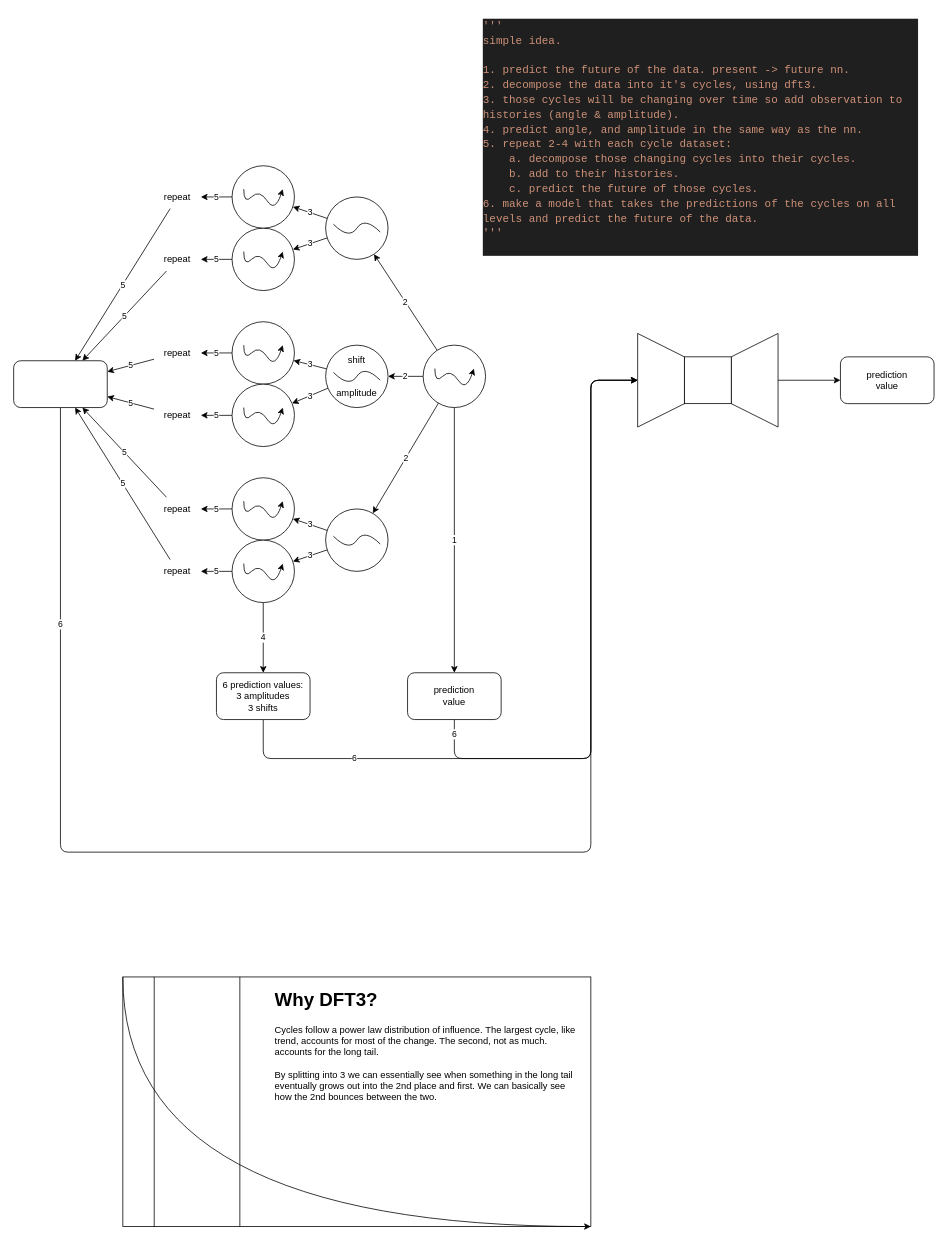
The diagram is 948 pixels wide and 1243 high, and some of its shapes have lost their labels. The box of each missing label's shape, as (x1, y1, x2, y2) in pixels:
36 prediction values: 18 amplitudes & 18 shifts: (13, 360, 107, 408)
data stream: (422, 344, 486, 408)
